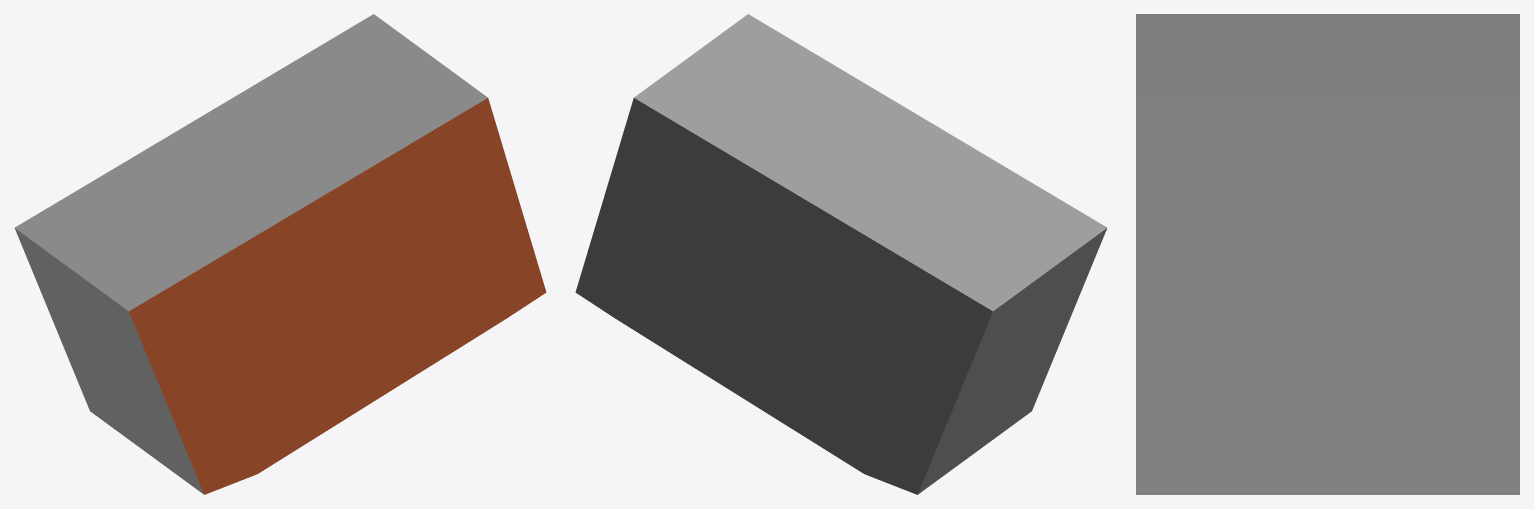
File: construction_7278_assumed_A_Ruinas_h6m.obj
The picture shows the model from 3 angles, left to right: view 1: azimuth 30°, elevation 25°; view 2: azimuth 150°, elevation 25°; view 3: azimuth 270°, elevation 25°; orthographic projection. The views are drawn at different scales.
Parts seen in each view (by area): view 1: construction_7278_assumed_A_Ruinas; view 2: construction_7278_assumed_A_Ruinas; view 3: construction_7278_assumed_A_Ruinas.
Part boxes in pixels (left/top/right/bottom): construction_7278_assumed_A_Ruinas: left=14, top=14, right=546, bottom=494; construction_7278_assumed_A_Ruinas: left=575, top=14, right=1107, bottom=494; construction_7278_assumed_A_Ruinas: left=1136, top=14, right=1519, bottom=494.
Size of the model in its own units: 12.65 by 9.49 by 6.
